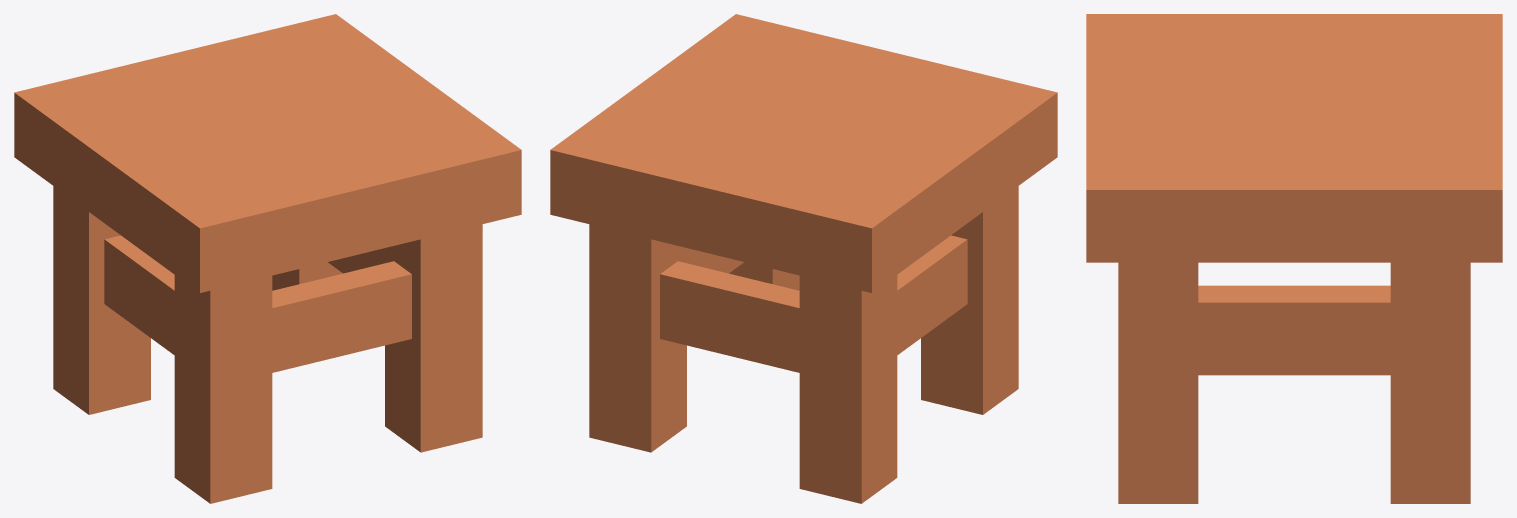
The model's file is d_kenney_tabouret_etal.glb.
The picture shows the model from 3 angles, left to right: view 1: azimuth 30°, elevation 25°; view 2: azimuth 150°, elevation 25°; view 3: azimuth 270°, elevation 25°; orthographic projection. The views are drawn at different scales.
Parts seen in each view (by area): view 1: d_kenney_tabouret_etal; view 2: d_kenney_tabouret_etal; view 3: d_kenney_tabouret_etal.
Part boxes in pixels (x1,y1,x2,y2): d_kenney_tabouret_etal: (14,14,521,503); d_kenney_tabouret_etal: (550,14,1057,503); d_kenney_tabouret_etal: (1086,14,1502,503).
Bounding box in the file's own units: 0.26 × 0.2255 × 0.26.
1 material, 1 textured.
